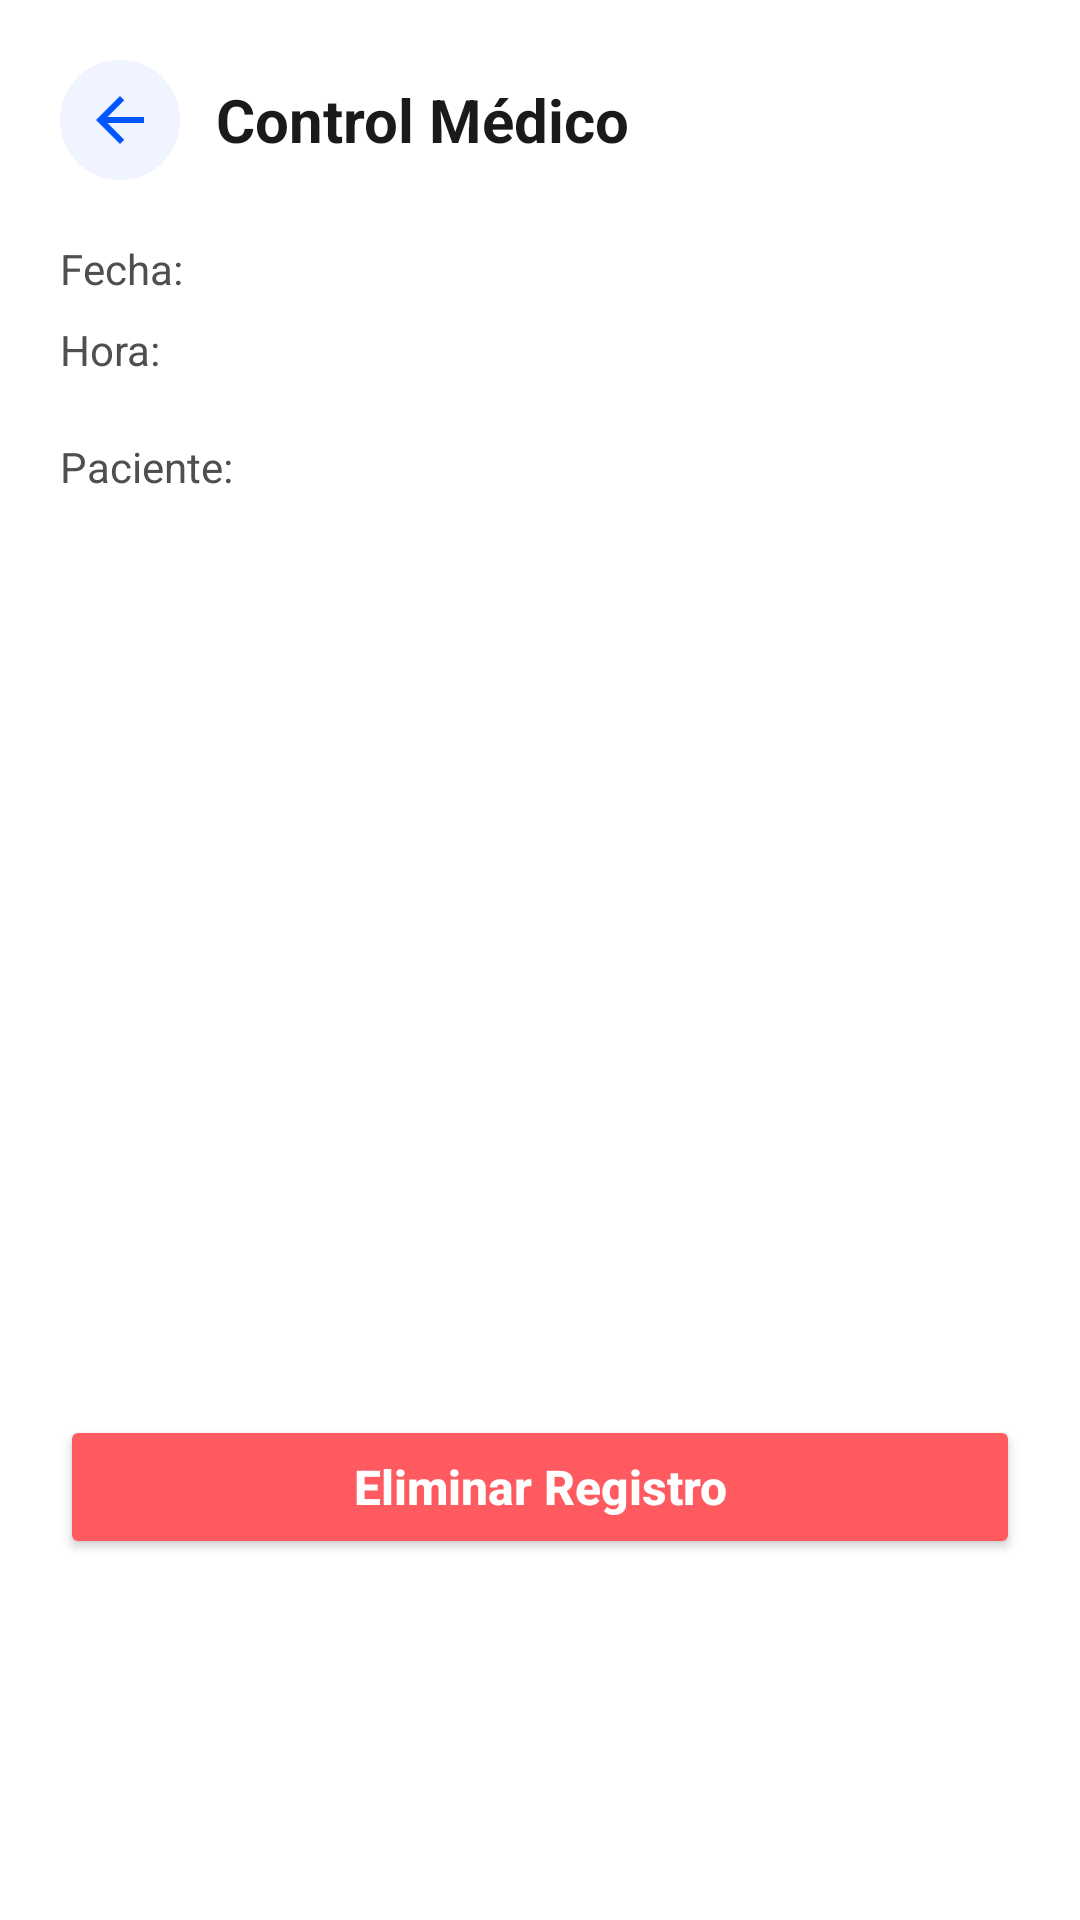

Screen size 1080px×1920px. Icon name, then its box in pixels as (x1, y1, x2, y2):
Regresar: (60, 60, 180, 180)
